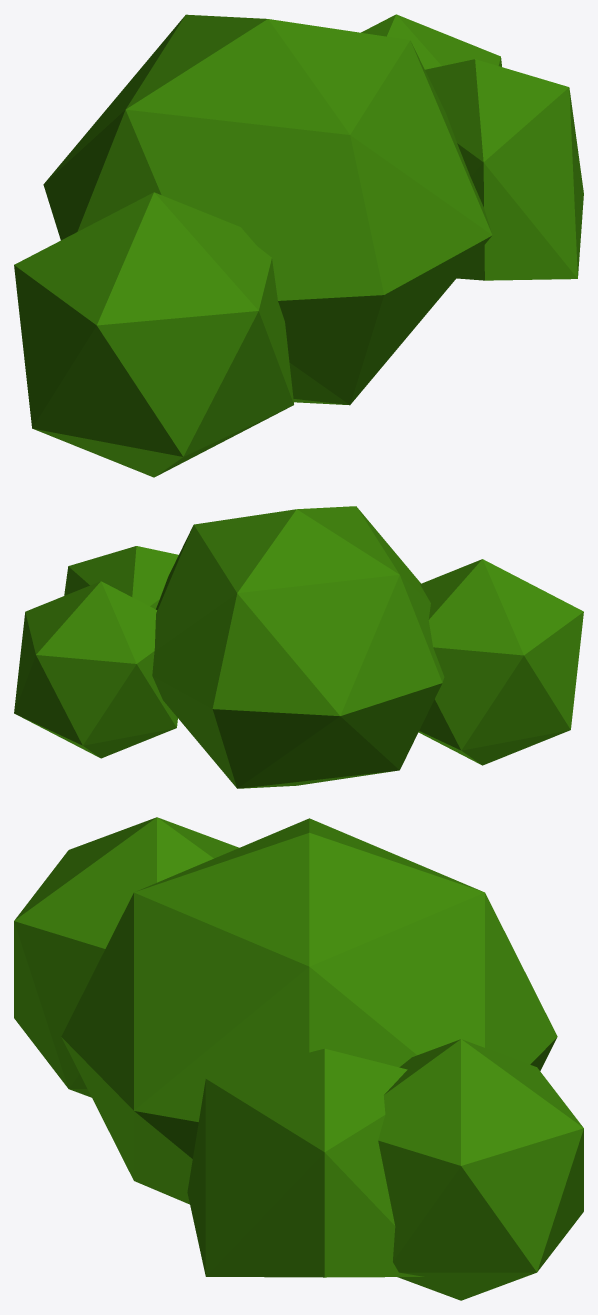
Rendered from Bush_b_01.fbx.
3 views of the same model, one above another, from view 1: azimuth 30°, elevation 25°; view 2: azimuth 150°, elevation 25°; view 3: azimuth 270°, elevation 25° (orthographic). The views are drawn at different scales.
Parts seen in each view (by area): view 1: Bush_e_01_LOD0; view 2: Bush_e_01_LOD0; view 3: Bush_e_01_LOD0.
Boxes of the visible parts, x1,y1,x2,y2 form: Bush_e_01_LOD0: [14, 14, 583, 477]; Bush_e_01_LOD0: [14, 506, 583, 788]; Bush_e_01_LOD0: [14, 817, 583, 1300].
Size of the model in its own units: 37.15 by 27.24 by 21.52.
